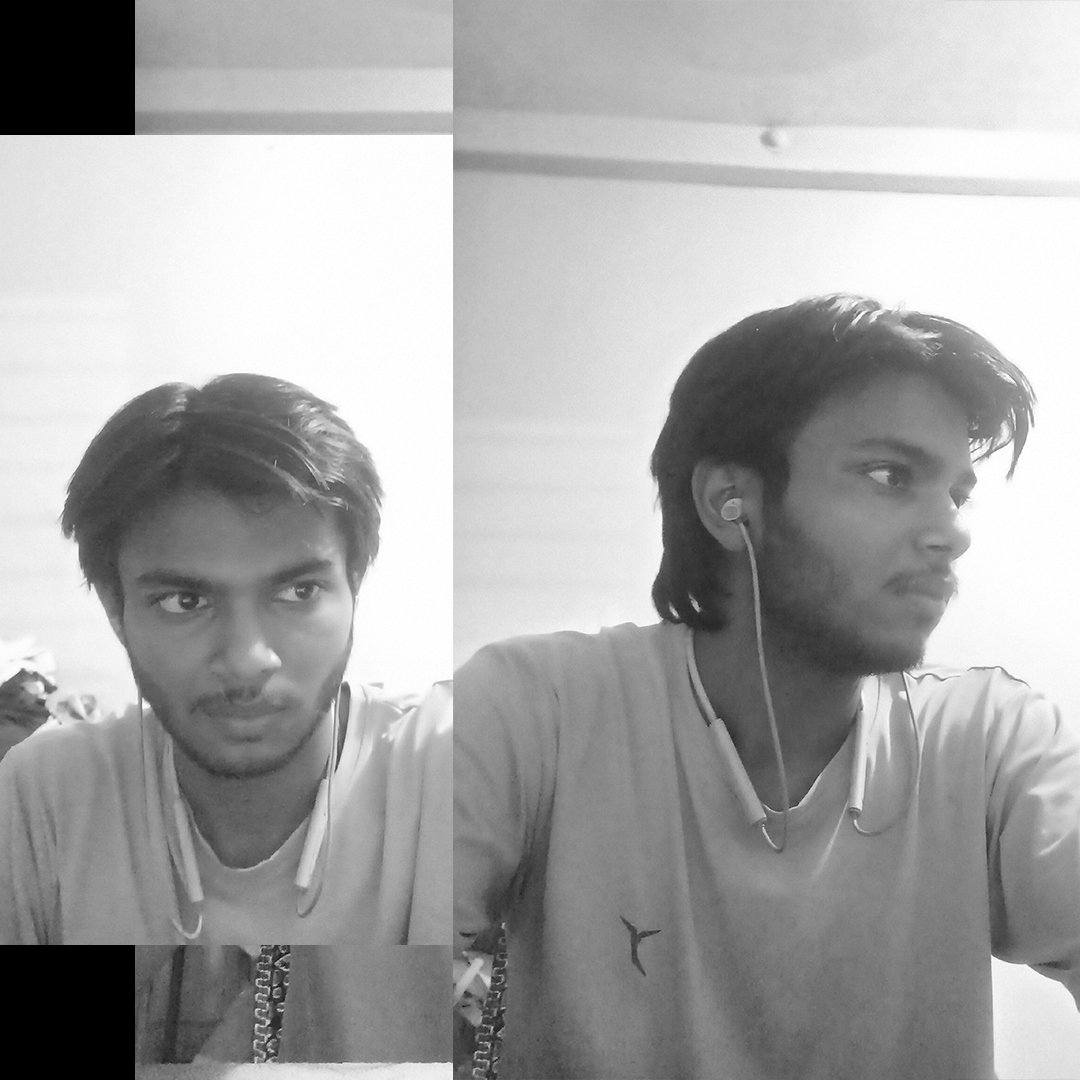Focused: (41, 340, 407, 920)
distracted: (598, 180, 1052, 978)
